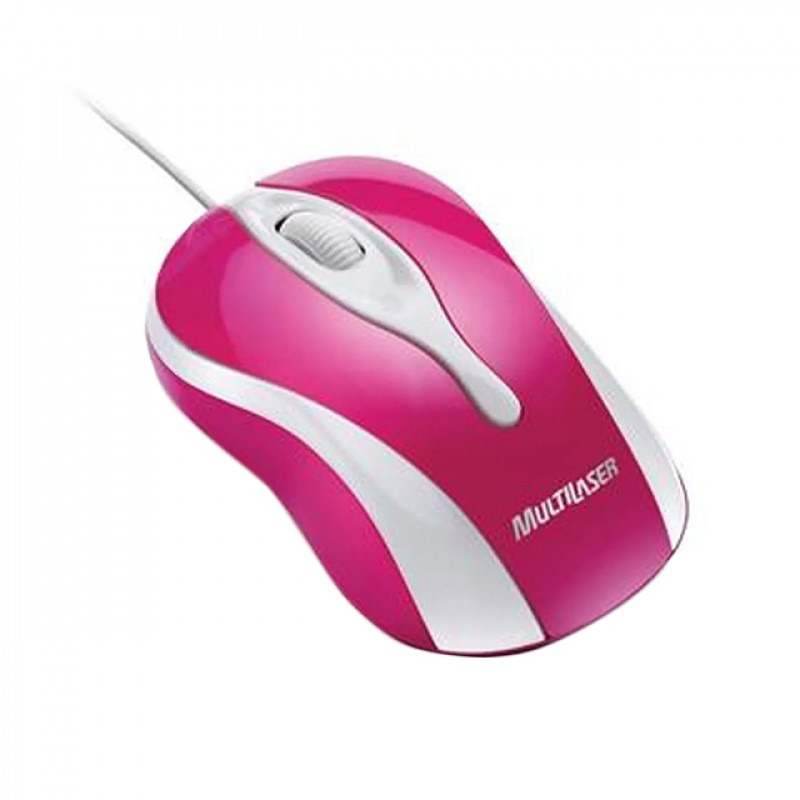mouse: (135, 147, 704, 663)
